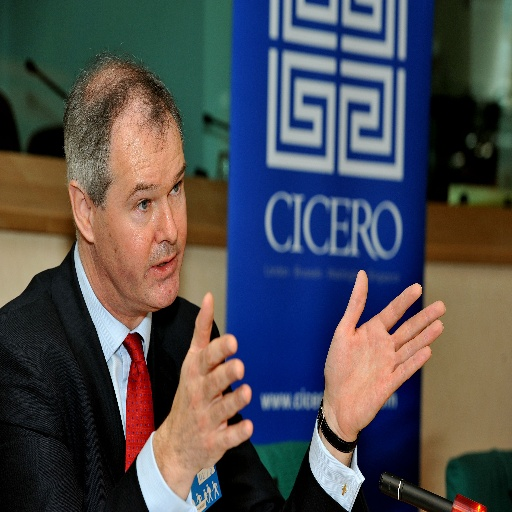hand: (304, 270, 441, 483), (167, 289, 255, 473)
